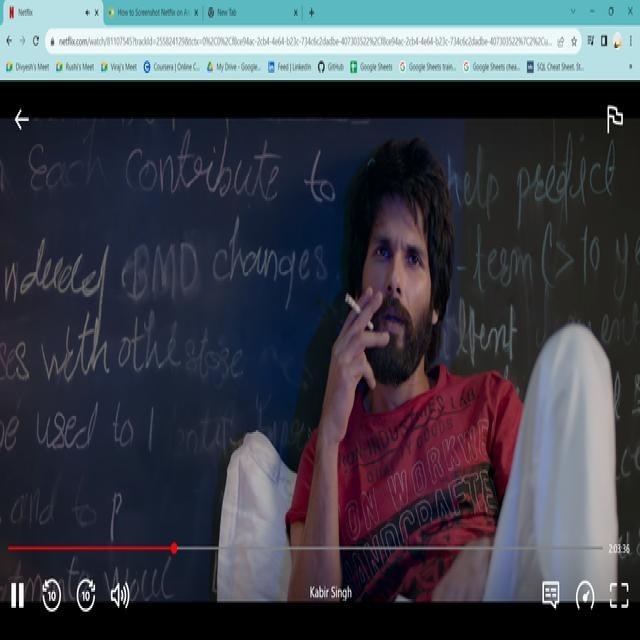smoking: (343, 292, 379, 334)
